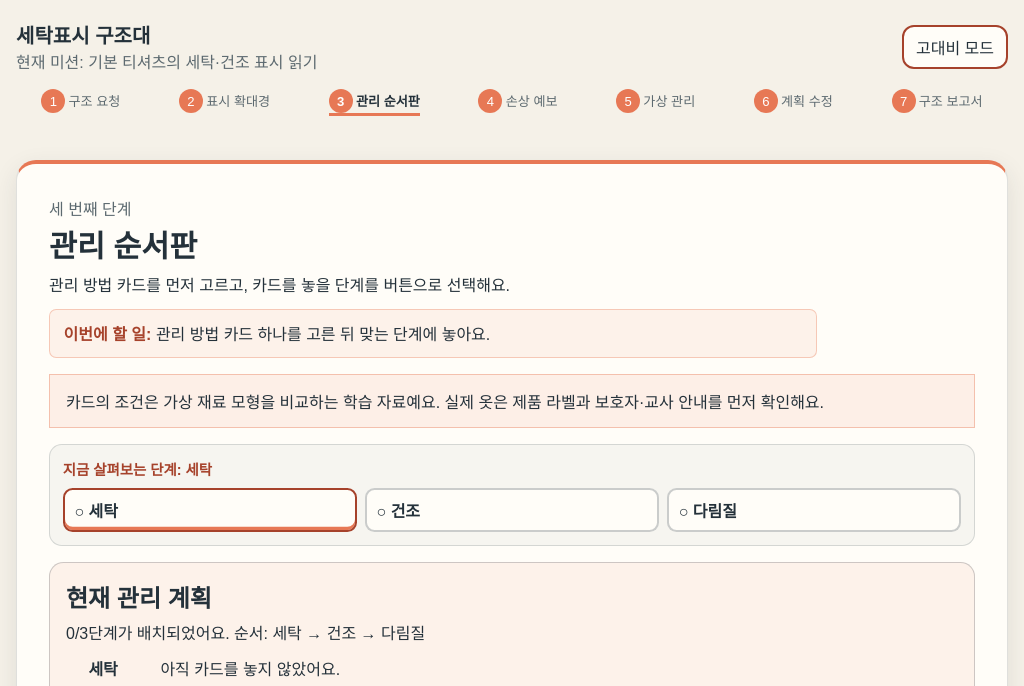
Test: 관리 단계별 카드 보기 › navigator를 누르면 해당 단계 카드만 보여 준다
Click the button with aria-label "건조 단계 보기": [381, 511] box [365,488,659,532]
(page scrolled)
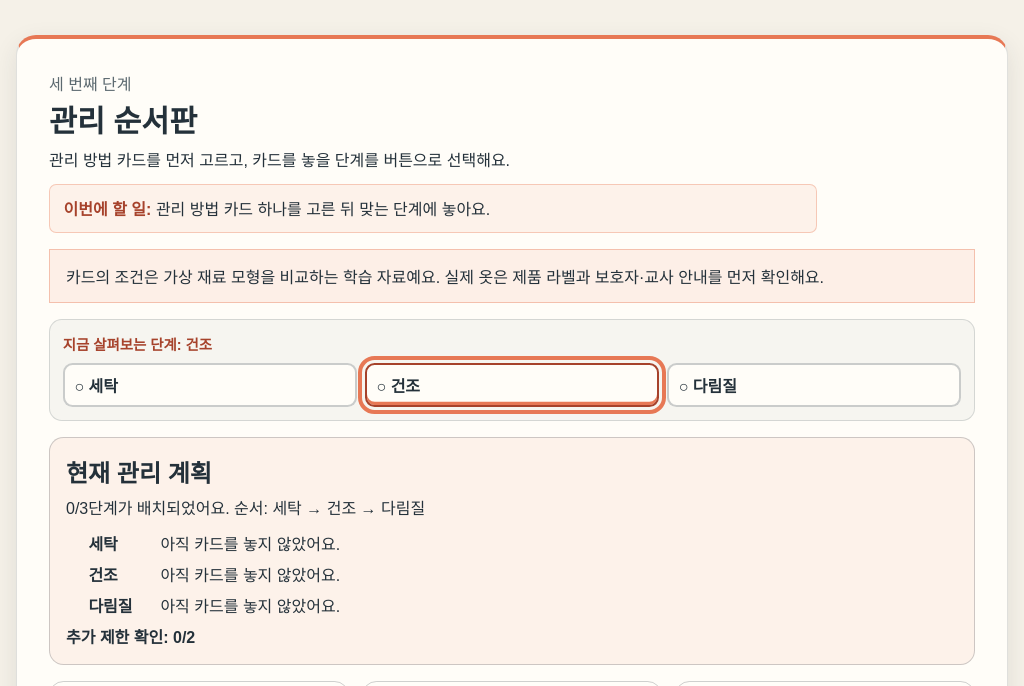
Click the button with aria-label "다림질 단계 보기": [715, 386] box [667,363,961,407]
(page scrolled)
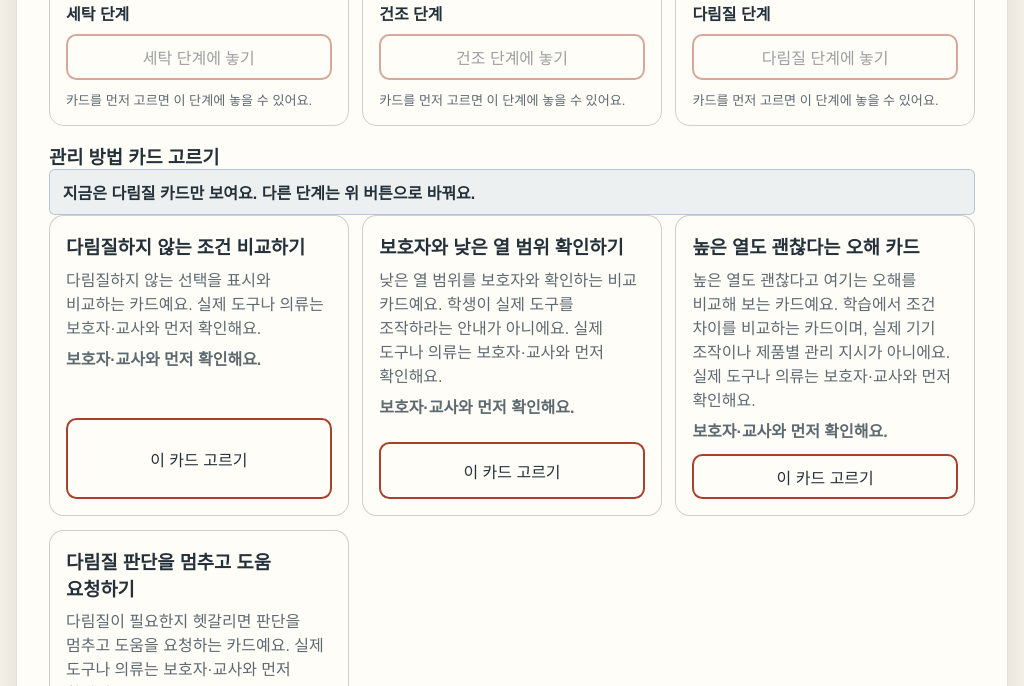
Check: the button with aria-label "다림질하지 않는 조건" is shown, box [66,418,332,499]
